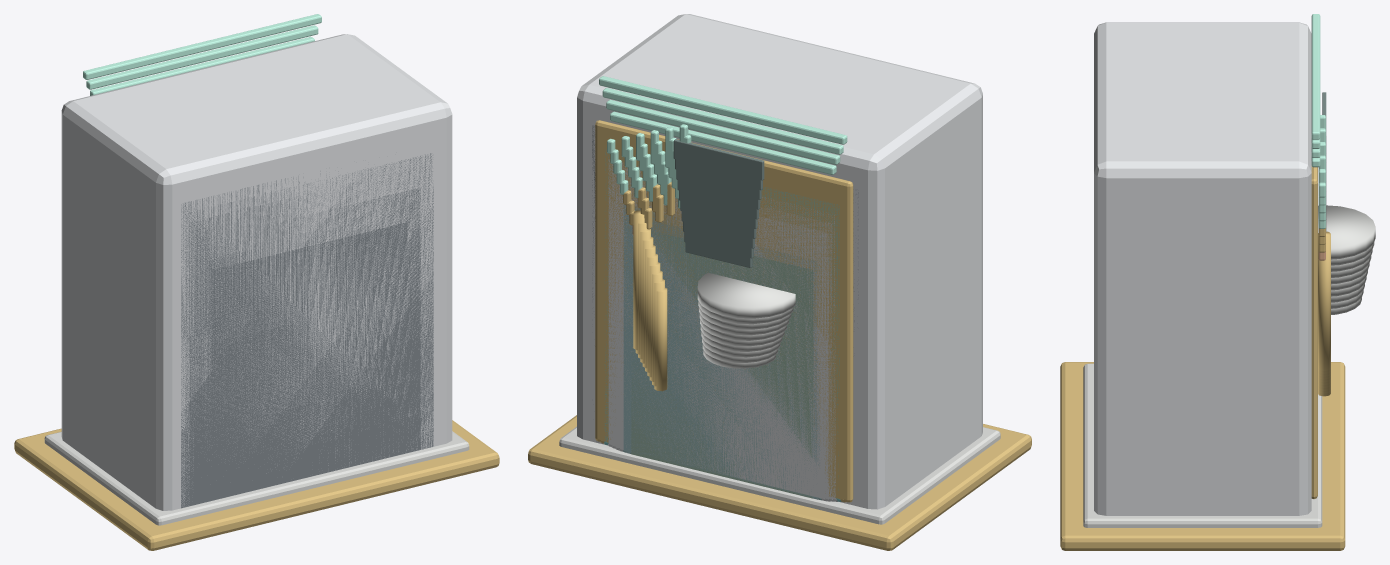
The model's file is Gear07.fbx.
3 views of the same model, side by side, from view 1: azimuth 30°, elevation 25°; view 2: azimuth 150°, elevation 25°; view 3: azimuth 270°, elevation 25° (orthographic). The views are drawn at different scales.
Visible parts, largest first — view 1: Gear07_V10_Platinum, Gear07_V4_Graphite, Gear07_V2_Graphite, Gear07_V5_Graphite, Gear07_V7_Graphite, Gear07_V1_Graphite, Gear07_V10_Gold, Gear07_V6_Graphite, Gear07_V9_Gold, Gear07_V8_Graphite, Gear07_V5_Chrome, Gear07_V10_Glow (+6 smaller); view 2: Gear07_V10_Platinum, Gear07_V10_Gold, Gear07_V3_Blue, Gear07_V1_Sage, Gear07_V4_Platinum, Gear07_V2_Blue, Gear07_V5_Platinum, Gear07_V9_Gold, Gear07_V10_Chrome, Gear07_V7_Platinum, Gear07_V10_Glow, Gear07_V9_Glow (+25 smaller); view 3: Gear07_V10_Platinum, Gear07_V10_Gold, Gear07_V9_Gold, Gear07_V10_Chrome, Gear07_V10_Glow, Gear07_V7_Chrome, Gear07_V5_Chrome, Gear07_V4_Chrome, Gear07_V9_Chrome, Gear07_V6_Chrome.
Part boxes in pixels (x1=…): Gear07_V10_Platinum: x1=61, y1=34, x2=452, y2=510; Gear07_V4_Graphite: x1=198, y1=188, x2=420, y2=470; Gear07_V2_Graphite: x1=207, y1=231, x2=388, y2=472; Gear07_V5_Graphite: x1=194, y1=195, x2=370, y2=505; Gear07_V7_Graphite: x1=185, y1=153, x2=433, y2=507; Gear07_V1_Graphite: x1=211, y1=223, x2=407, y2=473; Gear07_V10_Gold: x1=14, y1=420, x2=499, y2=550; Gear07_V6_Graphite: x1=189, y1=166, x2=427, y2=505; Gear07_V9_Gold: x1=22, y1=426, x2=492, y2=549; Gear07_V8_Graphite: x1=181, y1=171, x2=356, y2=508; Gear07_V5_Chrome: x1=179, y1=445, x2=445, y2=519; Gear07_V10_Glow: x1=83, y1=14, x2=321, y2=79; Gear07_V10_Platinum: x1=577, y1=14, x2=982, y2=509; Gear07_V10_Gold: x1=528, y1=120, x2=1031, y2=550; Gear07_V3_Blue: x1=623, y1=204, x2=821, y2=500; Gear07_V1_Sage: x1=631, y1=231, x2=813, y2=498; Gear07_V4_Platinum: x1=619, y1=194, x2=826, y2=501; Gear07_V2_Blue: x1=627, y1=215, x2=817, y2=499; Gear07_V5_Platinum: x1=615, y1=181, x2=830, y2=501; Gear07_V9_Gold: x1=535, y1=137, x2=1022, y2=549; Gear07_V10_Chrome: x1=559, y1=272, x2=1000, y2=524; Gear07_V7_Platinum: x1=608, y1=159, x2=838, y2=501; Gear07_V10_Glow: x1=599, y1=76, x2=847, y2=167; Gear07_V9_Glow: x1=602, y1=88, x2=843, y2=178; Gear07_V10_Platinum: x1=1094, y1=22, x2=1311, y2=515; Gear07_V10_Gold: x1=1060, y1=166, x2=1345, y2=550; Gear07_V9_Gold: x1=1060, y1=364, x2=1345, y2=537; Gear07_V10_Chrome: x1=1083, y1=205, x2=1375, y2=527; Gear07_V10_Glow: x1=1311, y1=14, x2=1325, y2=197; Gear07_V7_Chrome: x1=1083, y1=256, x2=1371, y2=515; Gear07_V5_Chrome: x1=1083, y1=270, x2=1367, y2=507; Gear07_V4_Chrome: x1=1083, y1=277, x2=1366, y2=507; Gear07_V9_Chrome: x1=1083, y1=242, x2=1374, y2=519; Gear07_V6_Chrome: x1=1088, y1=263, x2=1369, y2=512.
Size of the model in its own units: 100 by 103 by 75.24.
